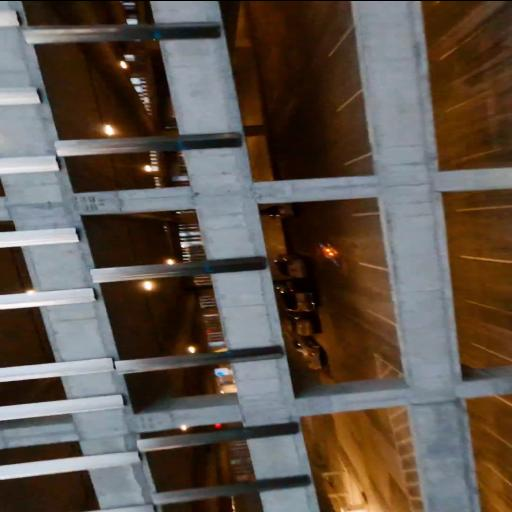uav: (308, 240, 350, 268)
